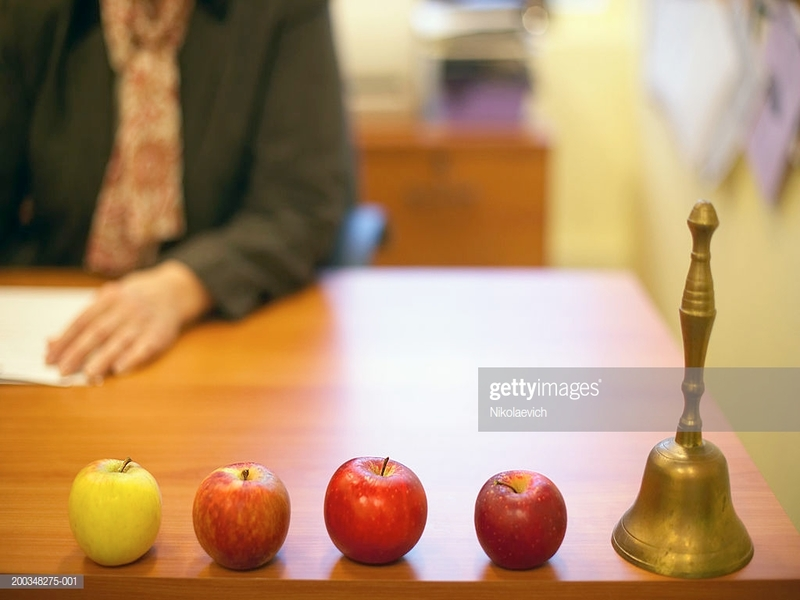apple: (328, 457, 431, 572), (68, 457, 168, 575), (191, 460, 287, 575), (476, 464, 568, 568)
